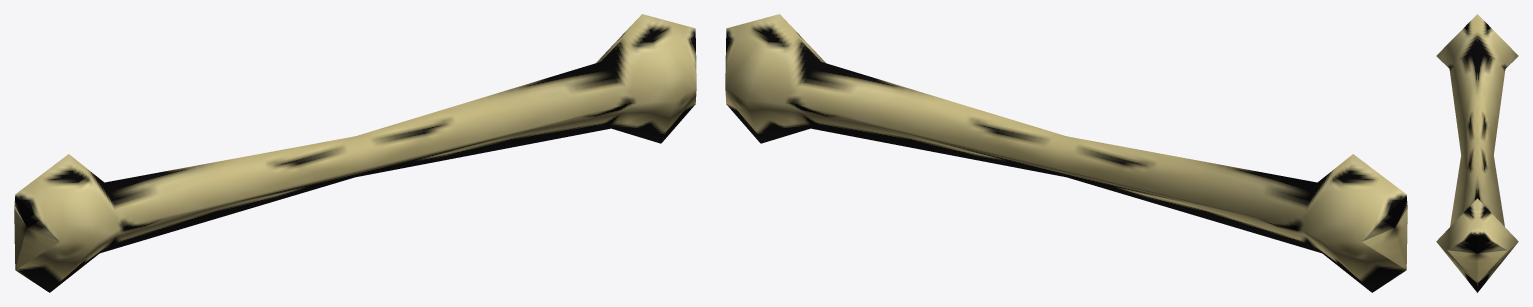
The picture shows the model from 3 angles, left to right: view 1: azimuth 30°, elevation 25°; view 2: azimuth 150°, elevation 25°; view 3: azimuth 270°, elevation 25°; orthographic projection. The views are drawn at different scales.
Visible parts, largest first — view 1: Line001; view 2: Line001; view 3: Line001.
Part boxes in pixels (x1,y1,x2,y2): Line001: (14, 14, 696, 292); Line001: (725, 14, 1407, 292); Line001: (1436, 14, 1518, 292).
Size of the model in its own units: 92.02 by 14.7 by 17.37.
